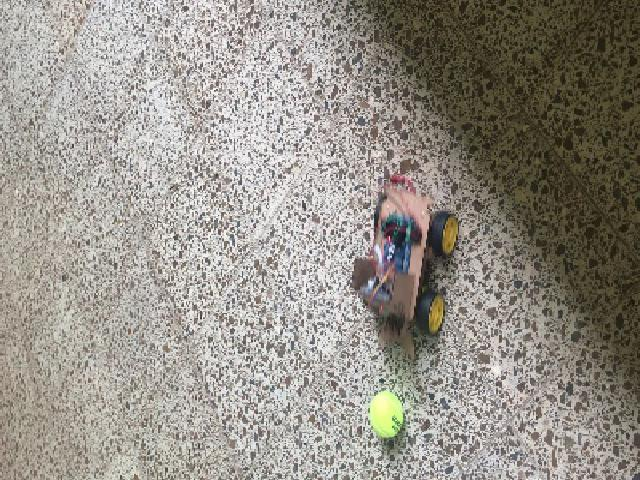Ball: (368, 392, 403, 438)
Robot: (352, 173, 458, 359)
